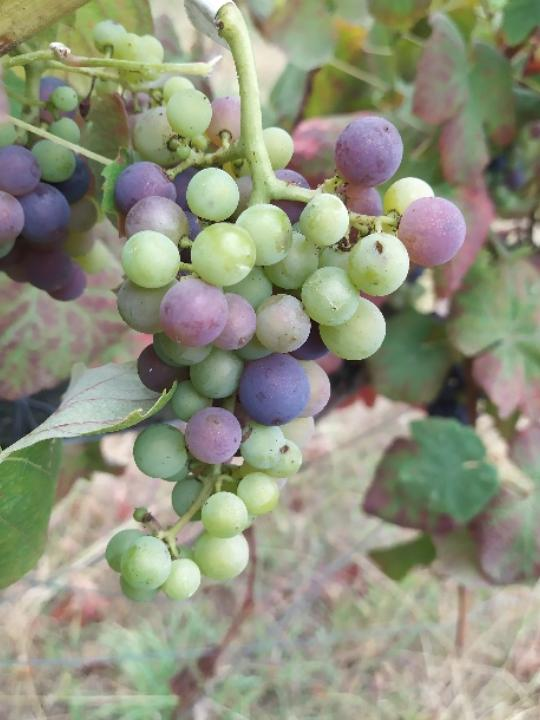grape: (102, 81, 471, 606)
